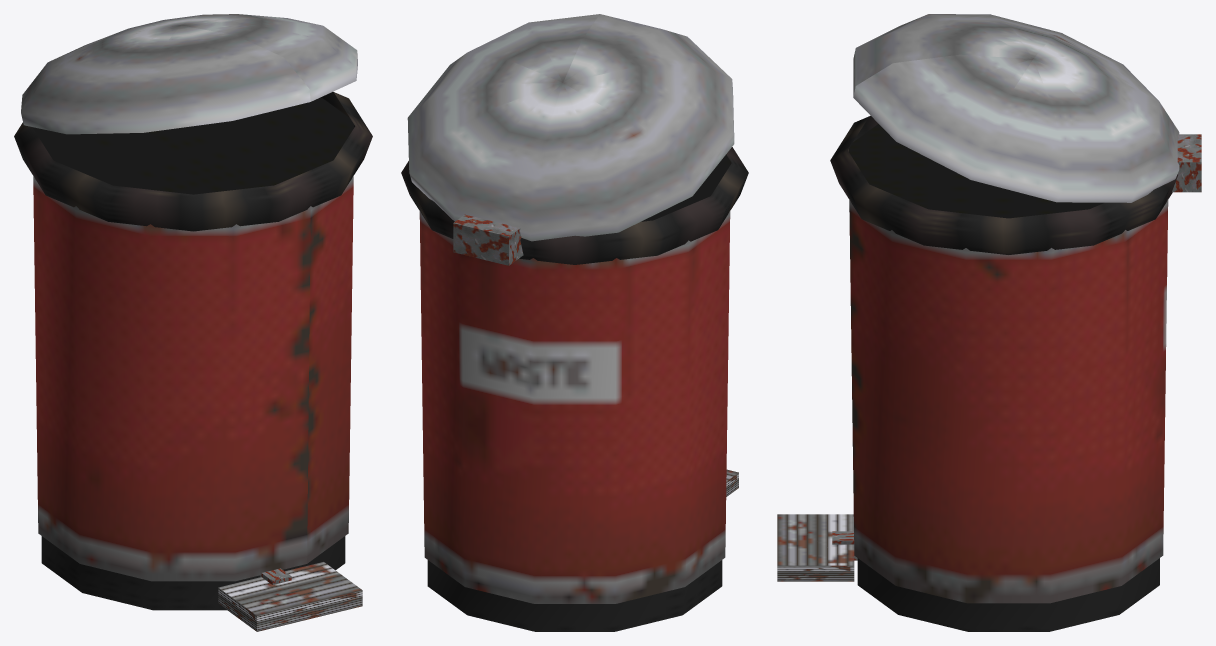
Rendered from trash_can_pedal.obj.
The picture shows the model from 3 angles, left to right: view 1: azimuth 30°, elevation 25°; view 2: azimuth 150°, elevation 25°; view 3: azimuth 270°, elevation 25°; orthographic projection. The views are drawn at different scales.
Parts seen in each view (by area): view 1: trash_can_pedal; view 2: trash_can_pedal; view 3: trash_can_pedal.
Boxes of the visible parts, x1,y1,x2,y2 form: trash_can_pedal: [14, 14, 372, 631]; trash_can_pedal: [401, 14, 748, 631]; trash_can_pedal: [777, 14, 1201, 631].
Size of the model in its own units: 0.324 by 0.5223 by 0.385.
1 material, 1 textured.
